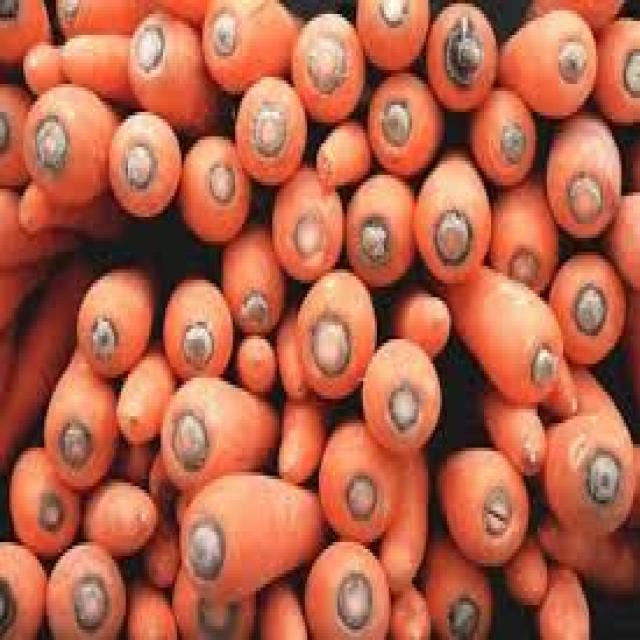organic waste: (0, 244, 102, 475), (177, 462, 323, 602), (416, 262, 558, 399), (158, 371, 277, 500), (540, 364, 628, 538), (123, 7, 226, 129), (433, 441, 528, 566), (293, 266, 375, 395), (42, 343, 114, 486), (409, 147, 486, 280), (545, 101, 619, 238), (316, 412, 391, 546), (498, 7, 593, 112), (74, 262, 160, 371), (358, 336, 440, 448), (547, 245, 624, 364), (533, 507, 638, 591), (302, 535, 388, 637), (7, 440, 79, 560), (488, 164, 558, 287), (198, 0, 300, 84), (417, 524, 491, 636), (363, 70, 445, 171), (214, 214, 284, 332), (175, 129, 249, 238), (107, 102, 179, 214), (289, 7, 363, 115), (16, 175, 135, 241), (375, 444, 428, 591), (230, 70, 302, 178), (42, 538, 121, 636), (344, 171, 414, 280), (158, 273, 233, 374), (424, 0, 496, 105), (168, 556, 256, 637), (465, 80, 533, 178), (112, 342, 177, 440), (480, 381, 544, 476), (56, 28, 137, 101), (81, 472, 156, 549), (0, 182, 79, 255), (272, 392, 333, 482), (54, 0, 207, 35), (591, 14, 638, 122), (380, 280, 450, 350), (0, 535, 44, 637), (356, 0, 424, 63), (533, 560, 589, 636), (132, 490, 174, 584), (0, 0, 51, 77), (312, 115, 365, 189), (598, 192, 638, 290), (121, 566, 177, 636), (253, 570, 310, 637), (270, 294, 305, 402), (0, 77, 33, 182), (496, 542, 544, 612), (230, 332, 280, 392), (516, 0, 623, 24), (542, 343, 577, 416), (0, 259, 42, 318), (142, 437, 177, 507), (16, 38, 63, 88), (389, 577, 428, 637), (619, 290, 638, 402), (624, 441, 638, 538), (0, 318, 14, 385), (621, 129, 638, 182)
